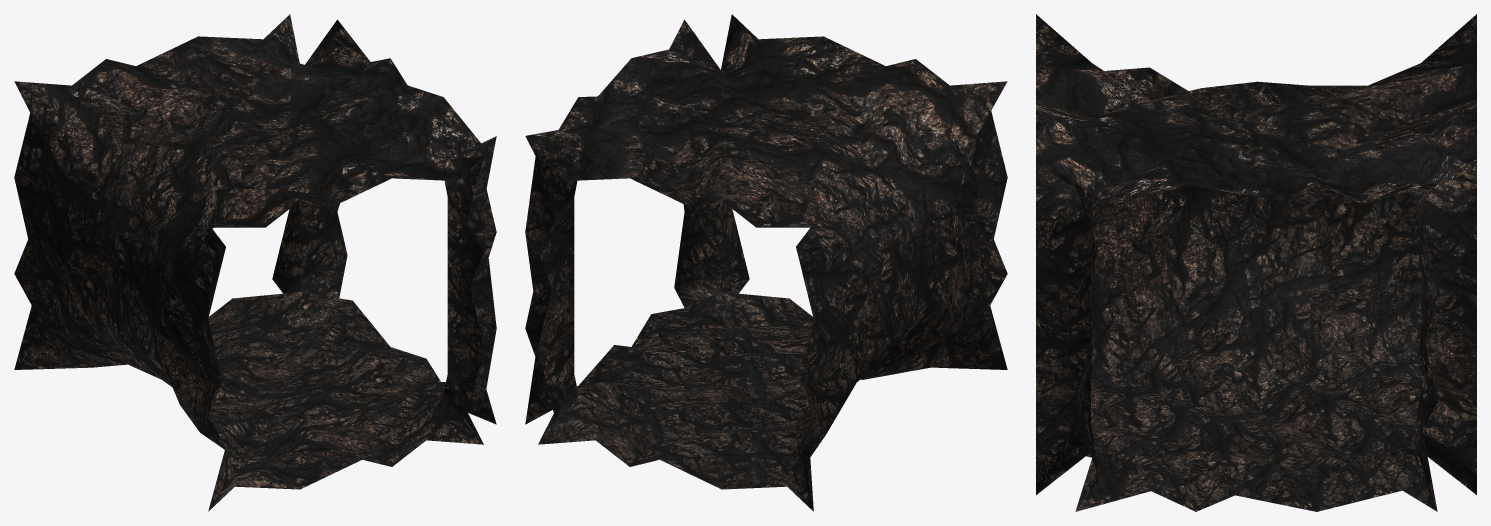
File: Level Piece - Intersection.FBX
The picture shows the model from 3 angles, left to right: view 1: azimuth 30°, elevation 25°; view 2: azimuth 150°, elevation 25°; view 3: azimuth 270°, elevation 25°; orthographic projection. The views are drawn at different scales.
Parts seen in each view (by area): view 1: Intersection001; view 2: Intersection001; view 3: Intersection001.
Part boxes in pixels (<box>): Intersection001: <box>14,14,496,511</box>; Intersection001: <box>525,14,1007,511</box>; Intersection001: <box>1036,14,1476,511</box>.
Bounding box in the file's own units: 91.08 × 82.16 × 100.
1 material, 1 textured.
